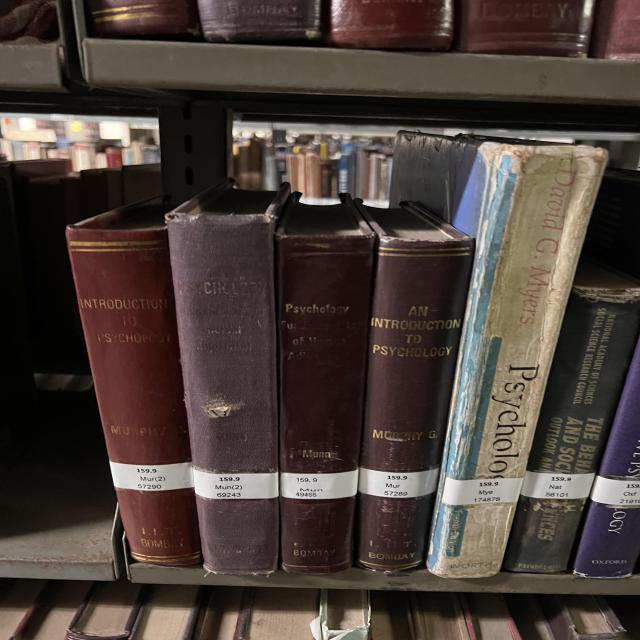Book: (392, 131, 607, 579), (67, 195, 200, 565), (167, 180, 288, 574), (357, 202, 473, 571), (503, 261, 640, 572), (275, 192, 375, 574)
Label: (193, 469, 278, 499), (110, 461, 193, 491), (358, 468, 438, 498), (280, 470, 358, 499), (442, 478, 523, 505), (520, 471, 595, 499)
